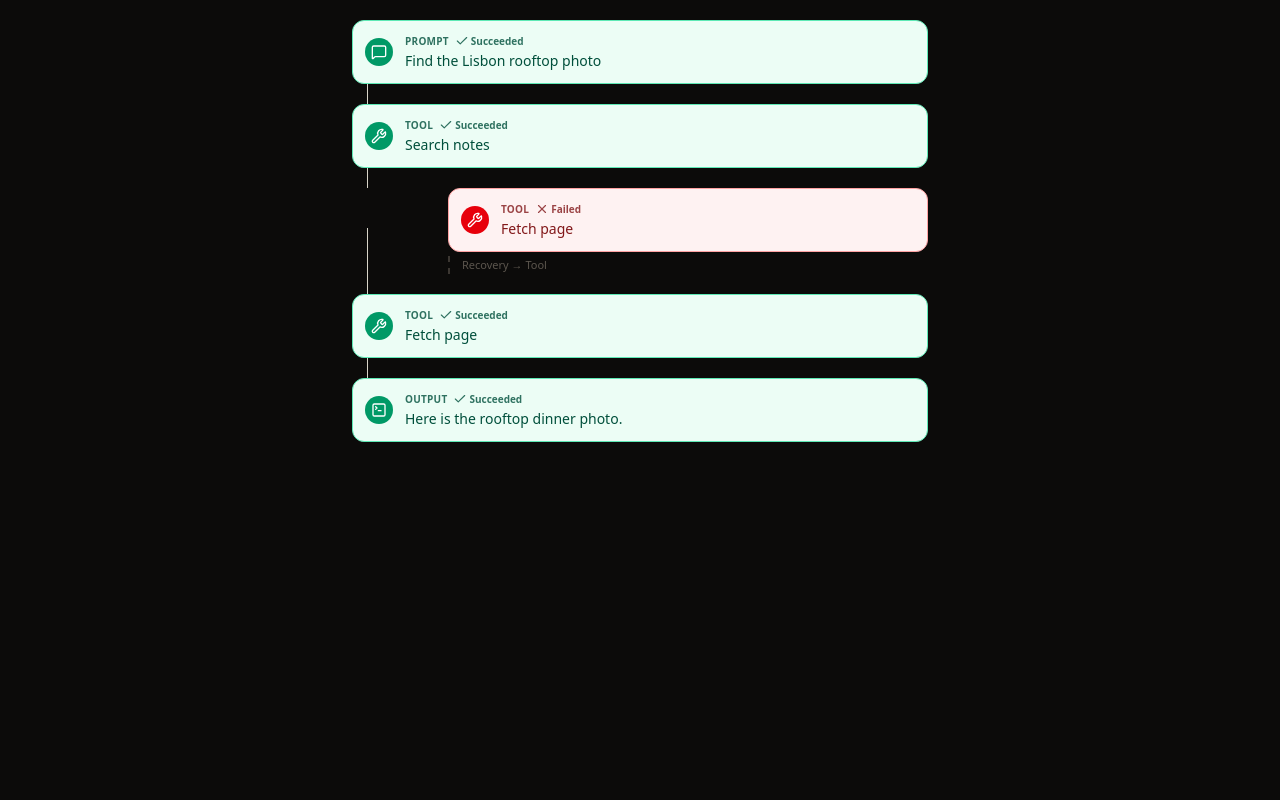
Test: AgentRunGraph › uses a bottom sheet inspector on mobile
Click the button "Output Succeeded Here is the rooftop dinner photo." at (426, 399), box [352,378,928,442]
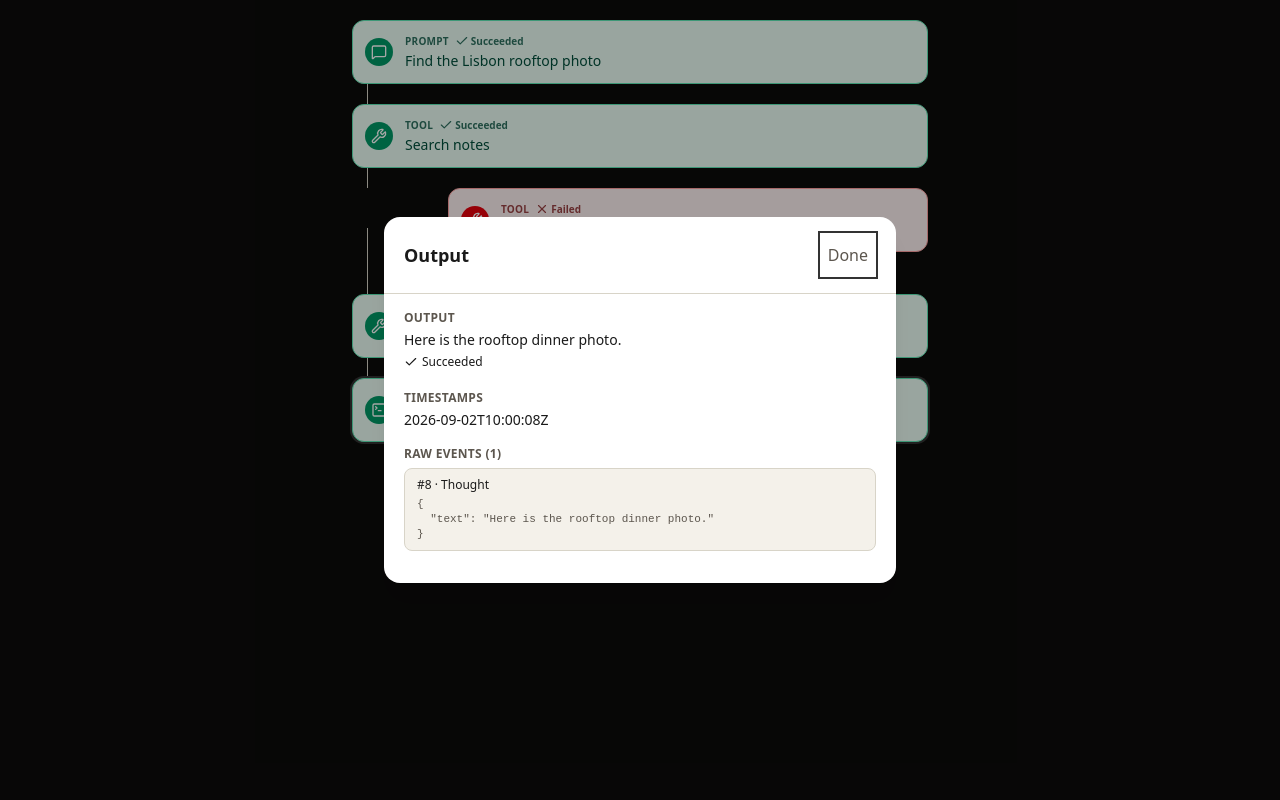
Expected: the dialog is shown, [384,217,896,583]
Expected: the text "Raw events (1)" is shown, [404,445,501,462]
